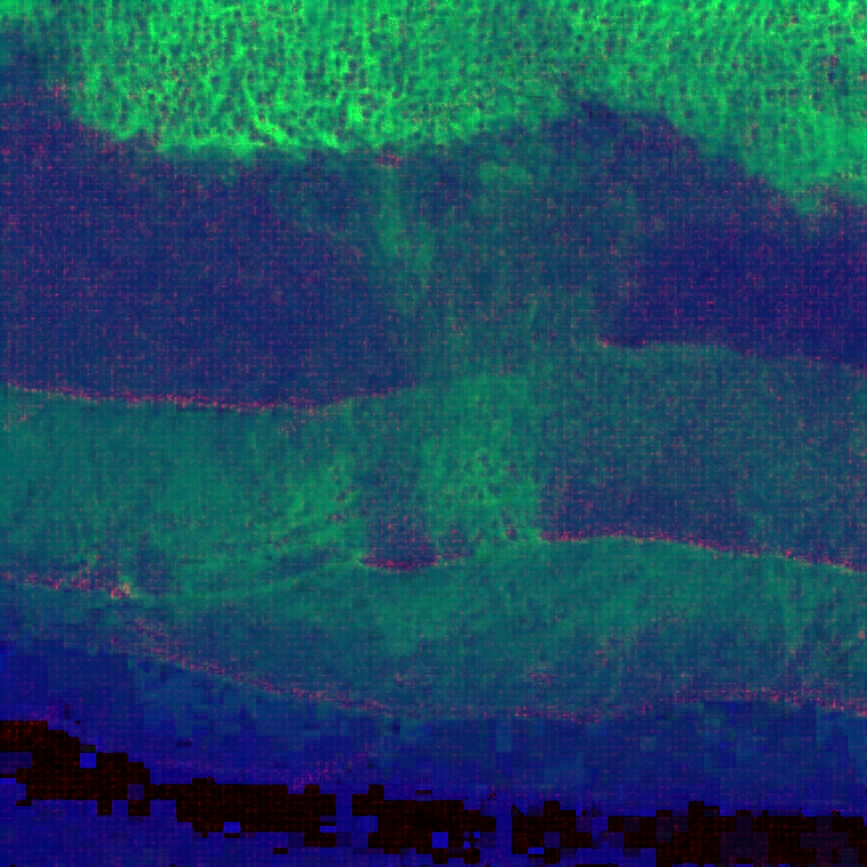rip_current: (340, 97, 646, 576)
